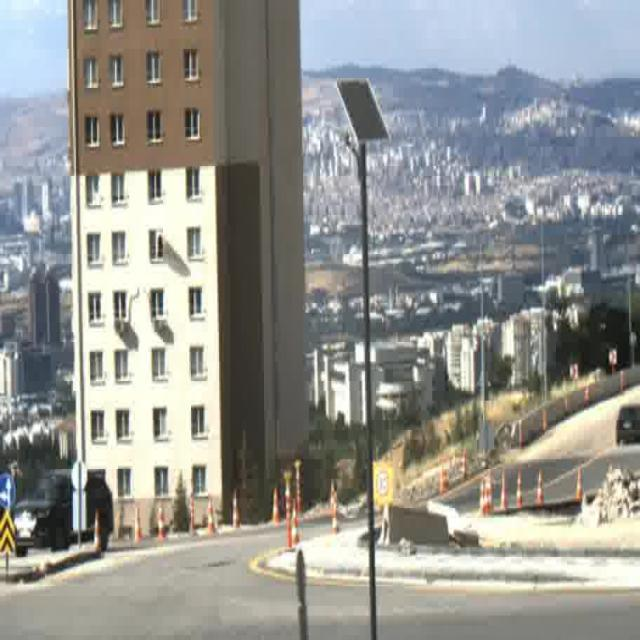Car: (12, 470, 110, 554), (615, 405, 640, 449)
